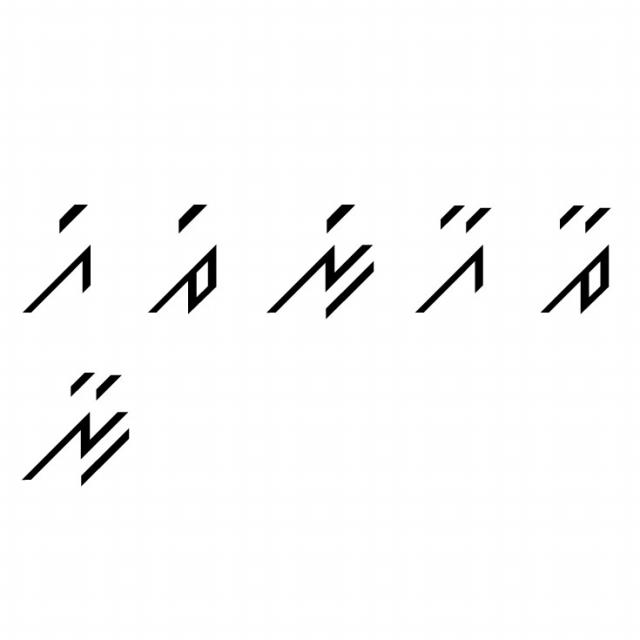gan: (405, 202, 498, 324)
gang: (2, 182, 98, 318)
ngan: (22, 368, 135, 488)
ngang: (254, 196, 378, 321)
tan: (527, 193, 624, 323)
tang: (138, 187, 231, 314)
